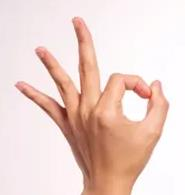left: (13, 15, 169, 174)
